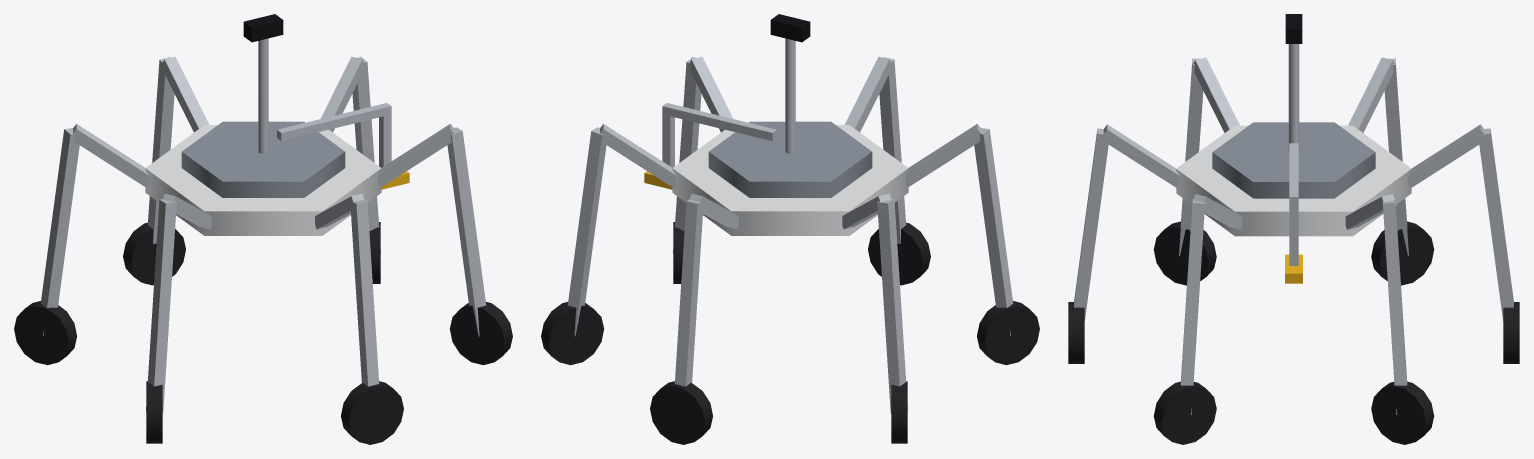
Rendered from athlete_robot.glb.
3 renders of one model, left to right at view 1: azimuth 30°, elevation 25°; view 2: azimuth 150°, elevation 25°; view 3: azimuth 270°, elevation 25°, orthographic.
Parts seen in each view (by area): view 1: athlete_white_plastic; view 2: athlete_white_plastic; view 3: athlete_white_plastic.
Part boxes in pixels (box(x1,y1,x2,y2)): athlete_white_plastic: box(14, 14, 512, 444); athlete_white_plastic: box(541, 14, 1039, 444); athlete_white_plastic: box(1068, 14, 1519, 444).
Size of the model in its own units: 4.66 by 4.13 by 4.98.
Materials: 1 (1 with a texture image).
